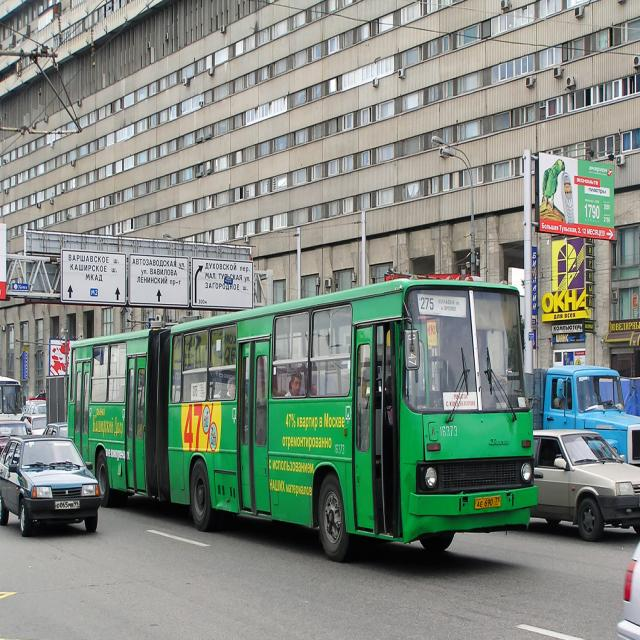number-of-bus: (420, 296, 437, 314)
